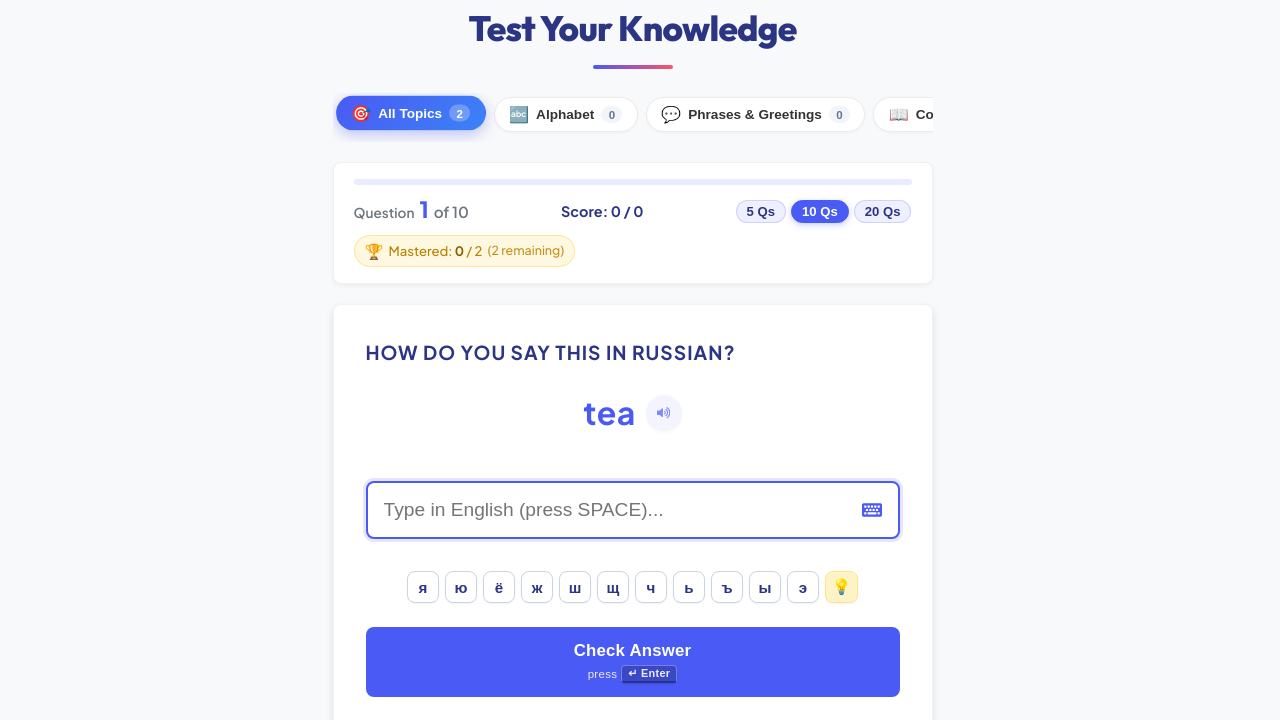
it: Quiz Component - Session Goals & Mastery Filtering › accepts common 1-letter typos on short words like чаи for чай (tea) with spelling guidance
Type "чаи" into the field at (632, 510), box [366,481,900,539]
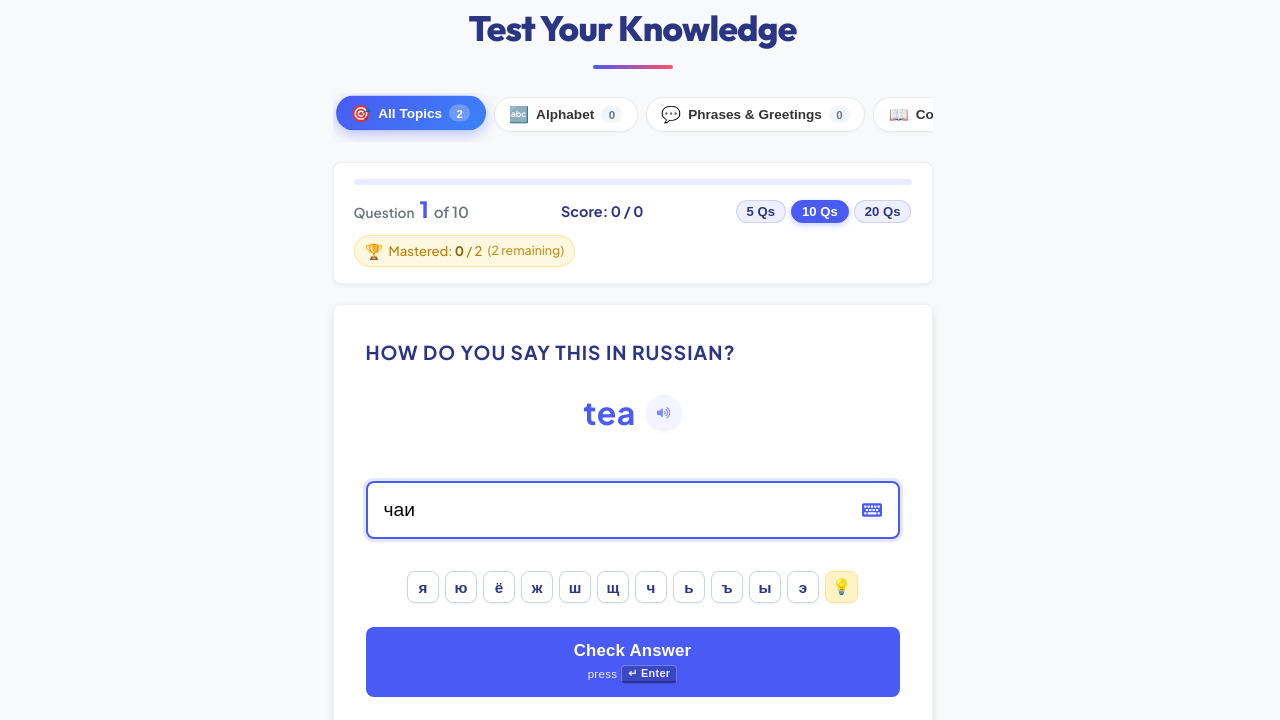
Click the button "Check Answer press ↵ Enter" at (632, 662), box [366,627,900,697]
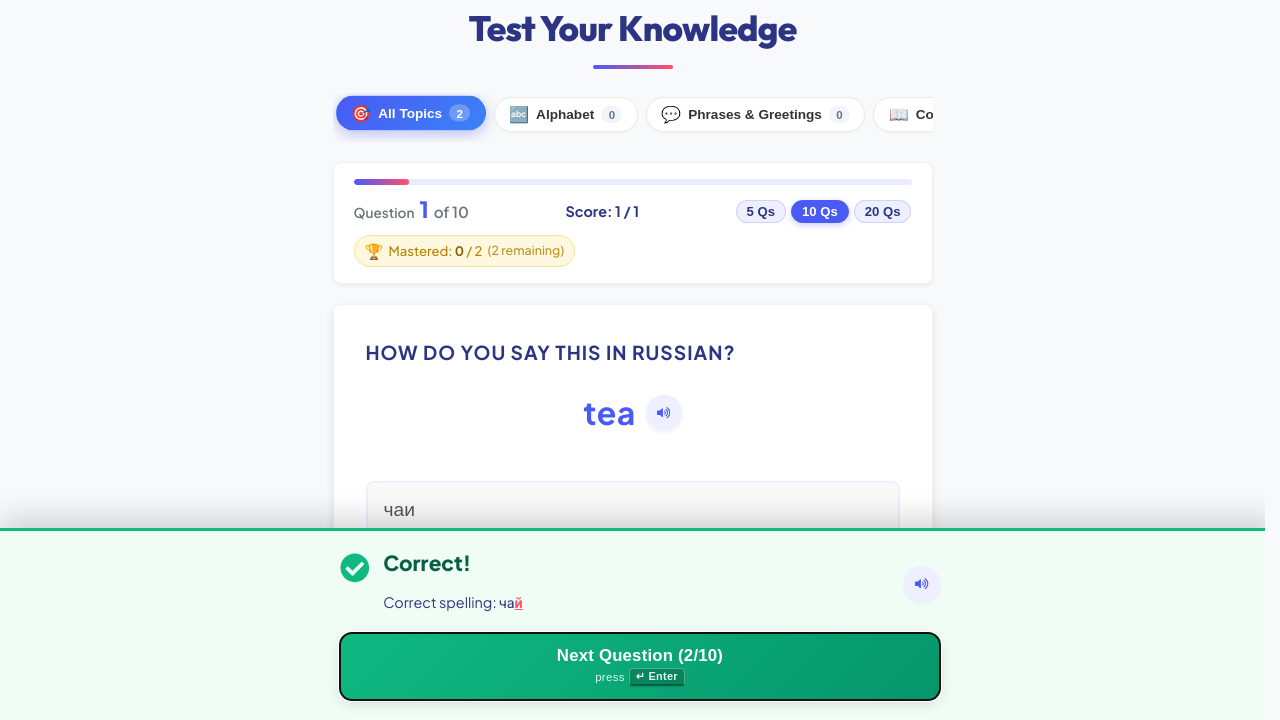
expect the text "Correct!" is shown: met, box [383,549,471,576]
expect the text "Correct spelling: чай" is shown: met, box [383,587,523,617]
